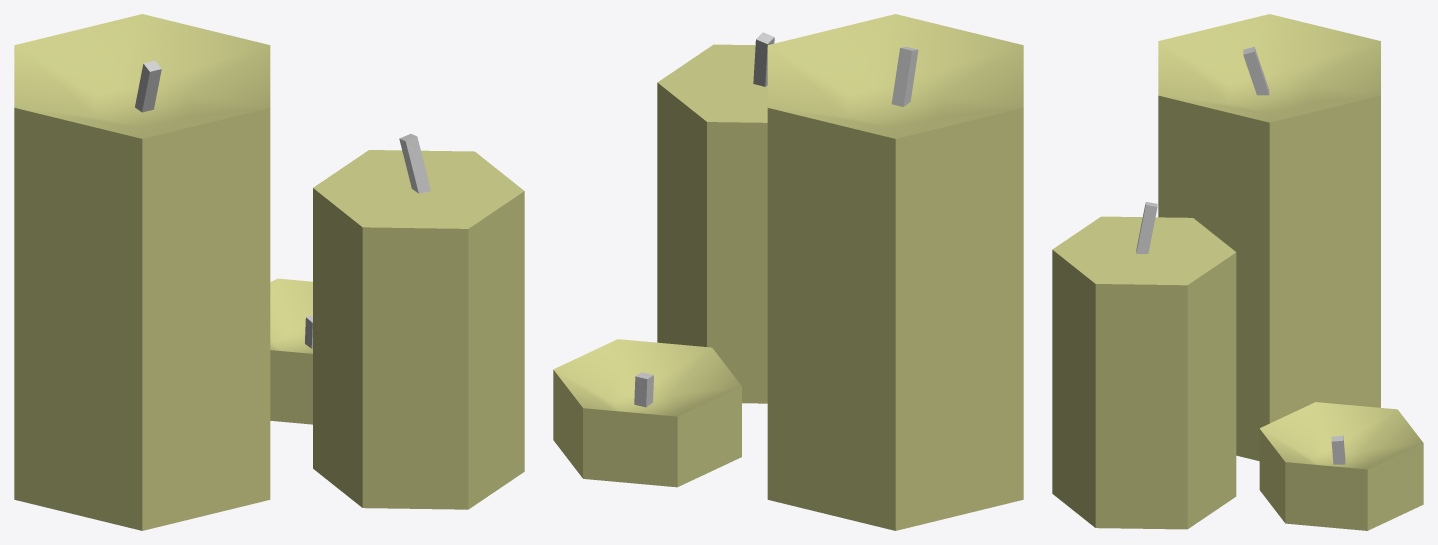
File: Candles.fbx
The picture shows the model from 3 angles, left to right: view 1: azimuth 30°, elevation 25°; view 2: azimuth 150°, elevation 25°; view 3: azimuth 270°, elevation 25°; orthographic projection. The views are drawn at different scales.
Parts seen in each view (by area): view 1: pCube83; view 2: pCube83; view 3: pCube83.
Boxes of the visible parts, x1,y1,x2,y2 form: pCube83: (14,14,524,530); pCube83: (553,14,1023,530); pCube83: (1052,14,1423,530).
Bounding box in the file's own units: 1.57 × 1.5 × 1.4.
